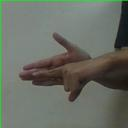hand: (19, 58, 102, 103), (20, 31, 94, 69)
